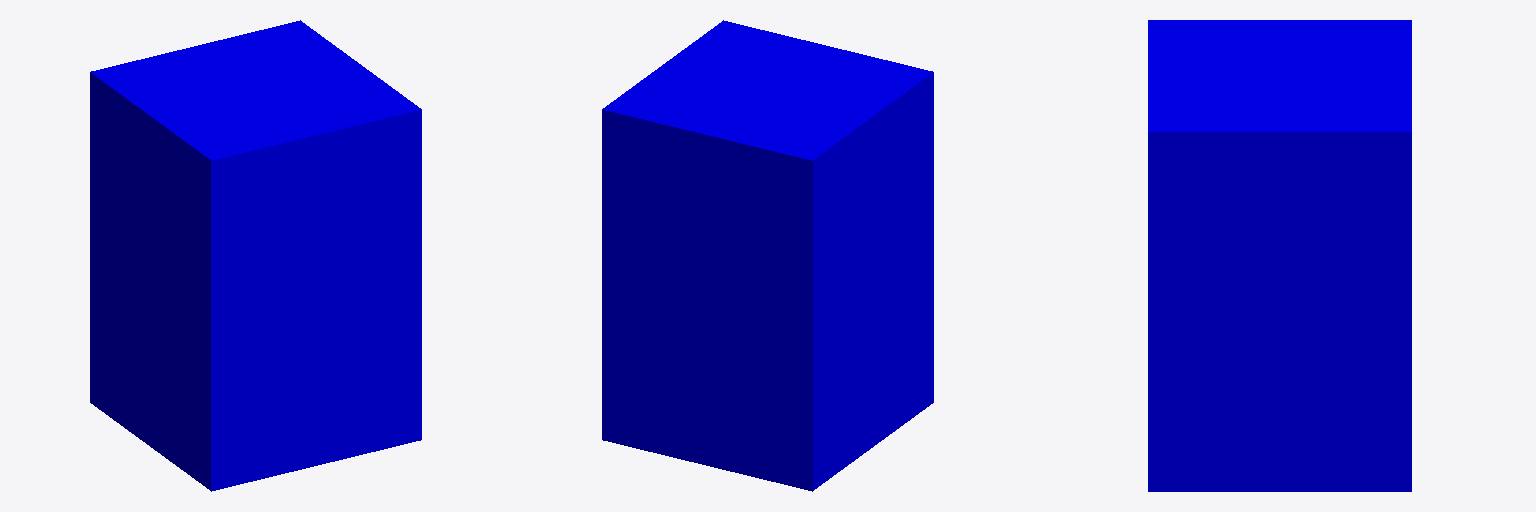
The robot description file, URDF, robot "blue_cylinder":
<?xml version="1.0"?>
<robot name="blue_cylinder">

<link name="base_link">
  <collision>
    <origin xyz="0.095 0.1 0.0" rpy="0 0 0"/>
    <geometry>
       <box size="0.02 0.02 0.03"/>
    </geometry>
  </collision>

  <visual>
    <origin xyz="0.095 0.1 0.0" rpy="0 0 0"/>
    <geometry>
       <box size="0.02 0.02 0.03"/>
    </geometry>
    <material name="">
        <color rgba="0 0 1 1" />
    </material>
  </visual>

  <inertial>
    <origin xyz="0.095 0.1 0.0" rpy="0 0 0"/>
    <mass value="0.0004"/>
    <inertia
      ixx="0.01" ixy="0.0" ixz="0.0"
      iyy="0.01" iyz="0.0"
      izz="0.01"/>
  </inertial>
</link>

<gazebo reference="base_link">
  <material>Gazebo/Blue</material>
</gazebo>

</robot>

--- Render facts (derived) ---
3 views of the same robot in one strip: view 1: azimuth 30°, elevation 25°; view 2: azimuth 150°, elevation 25°; view 3: azimuth 270°, elevation 25° (orthographic).
Model blue_cylinder with 1 links and 0 joints (none), rooted at base_link, posed every joint at zero.
Links seen in each view (by area): view 1: base_link; view 2: base_link; view 3: base_link.
Boxes of the visible links, x1=… form: base_link: x1=90, y1=20, x2=421, y2=491; base_link: x1=602, y1=20, x2=933, y2=491; base_link: x1=1148, y1=20, x2=1411, y2=491.
Size in the robot's own frame: 0.02 by 0.02 by 0.03 metres.
Geometry: primitives only (box / cylinder / sphere), no mesh files.